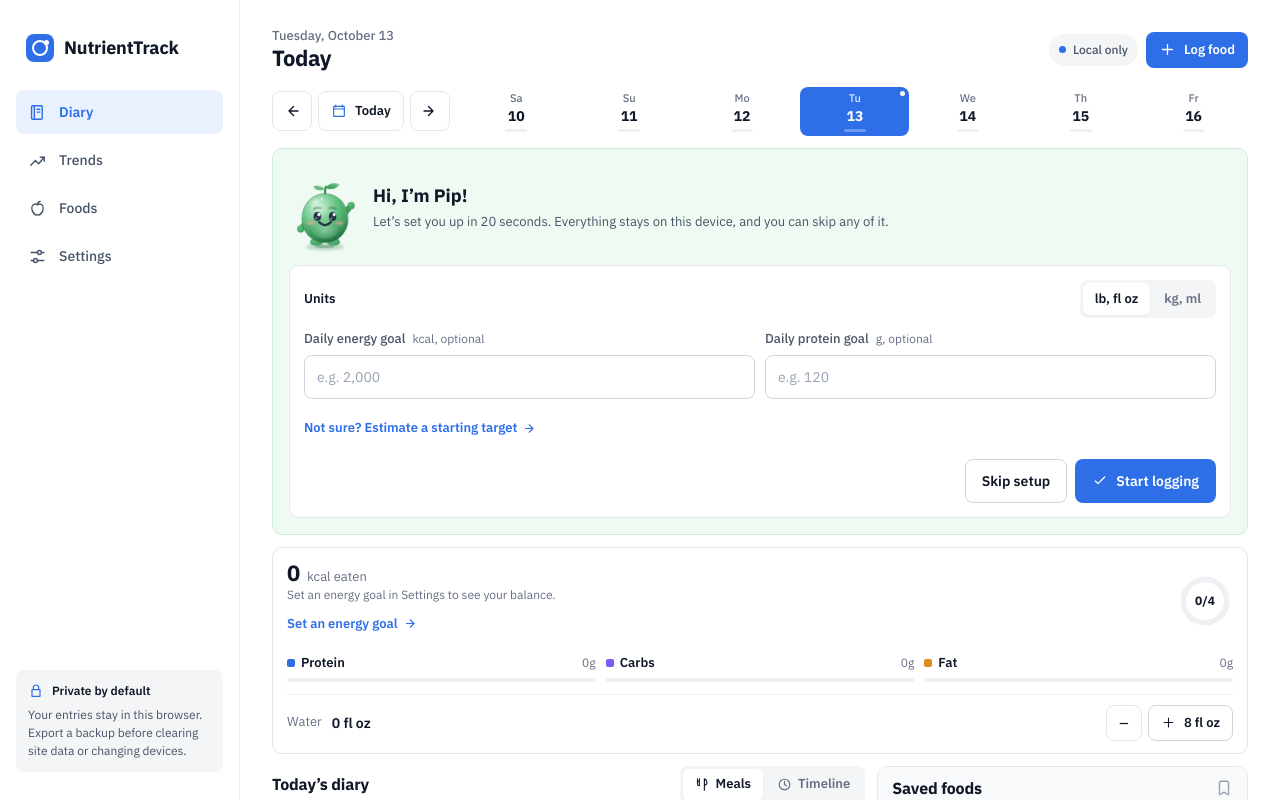
Test case: New recipe dialog validation › opens from the Foods view with the default of one serving and no ingredients
The width and height of the screenshot is (1280, 800).
Click the button "Foods".
click(120, 208)  # box [16,186,223,230]
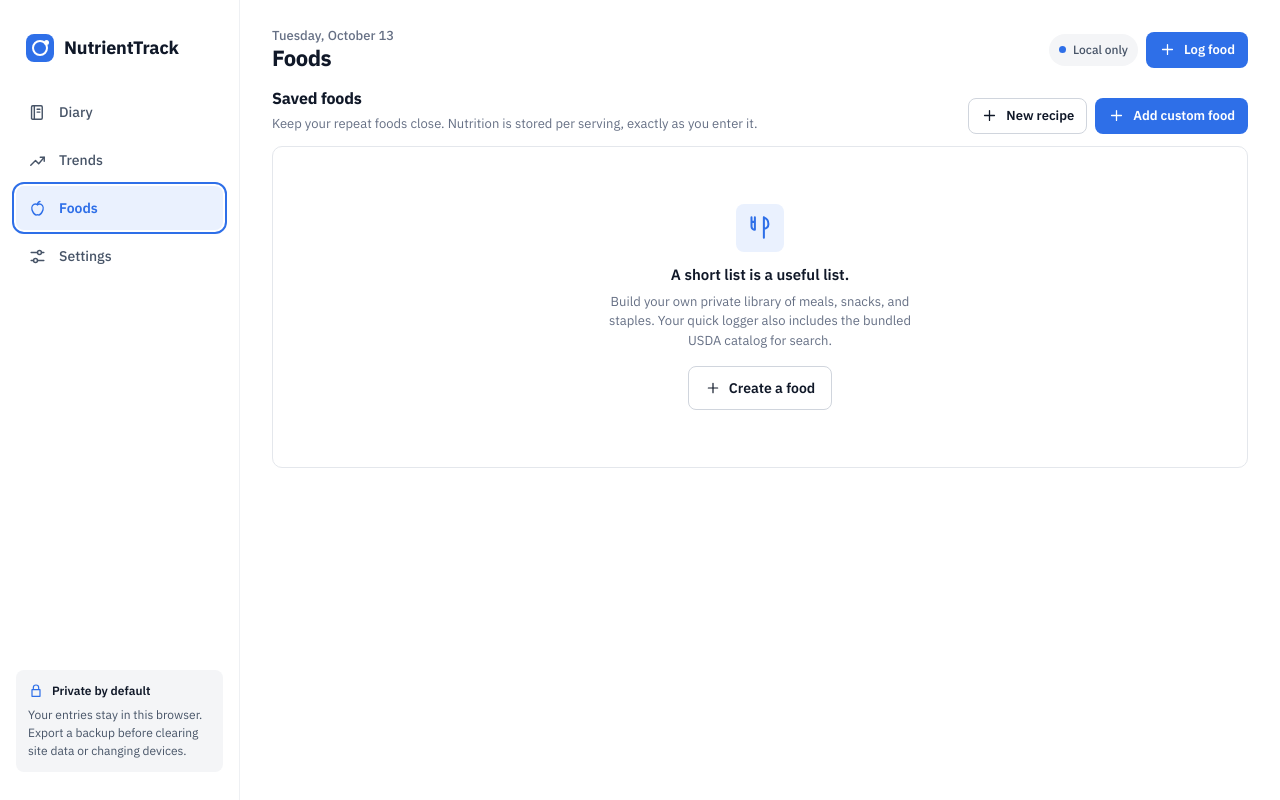
Click the button "New recipe".
click(1028, 116)  # box [968,98,1087,134]
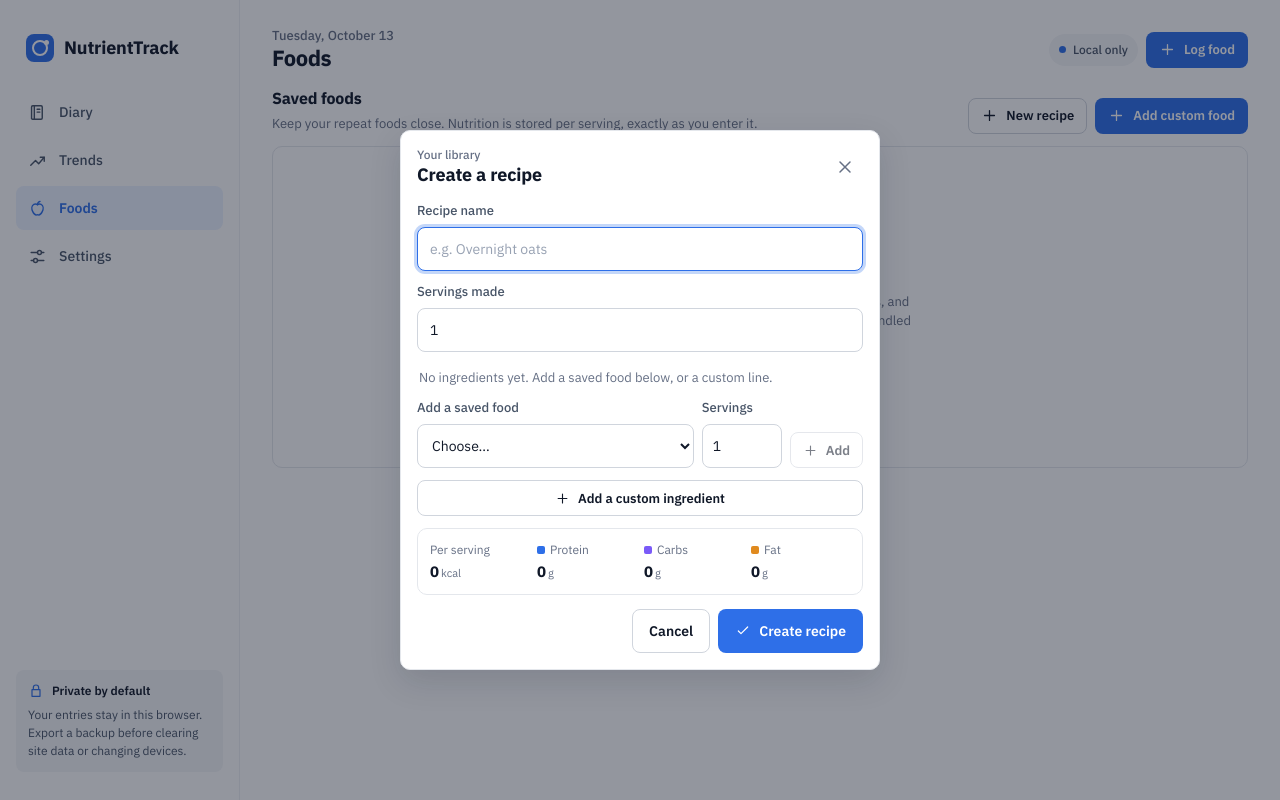
Expected: the heading "Create a recipe" is shown, [417,162,542,188]
Expected: the number field labelled "Servings made" holds "1", [417,308,863,352]
Expected: the text "No ingredients yet" is shown, [419,369,773,386]
